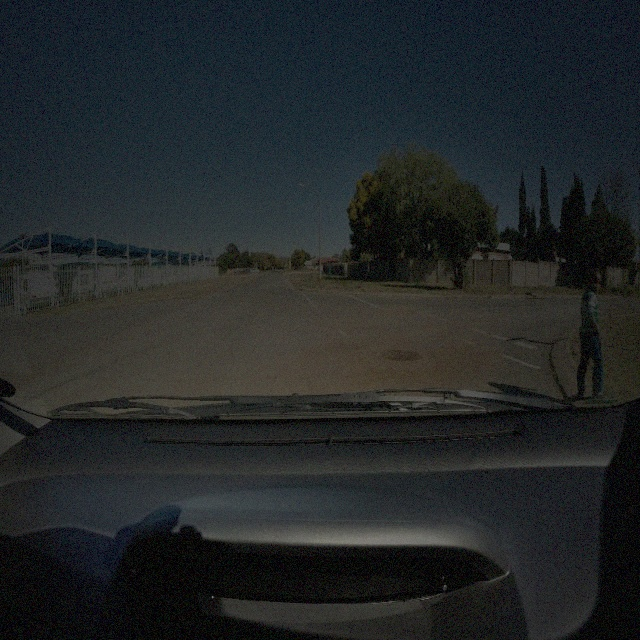pothole: (380, 346, 422, 363)
